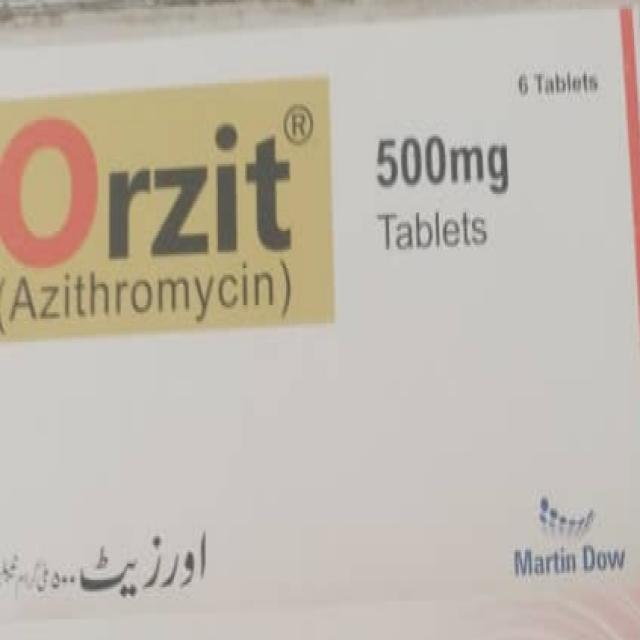drug-name: (0, 110, 295, 268)
